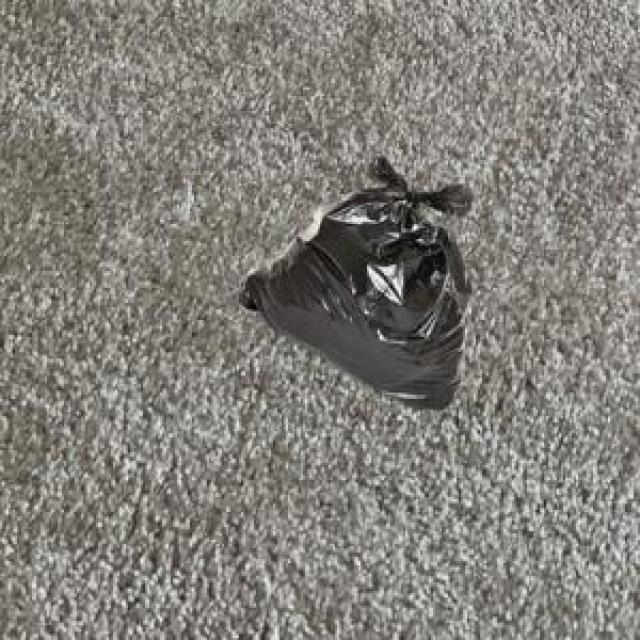miscellaneous trash: (235, 149, 469, 405)
